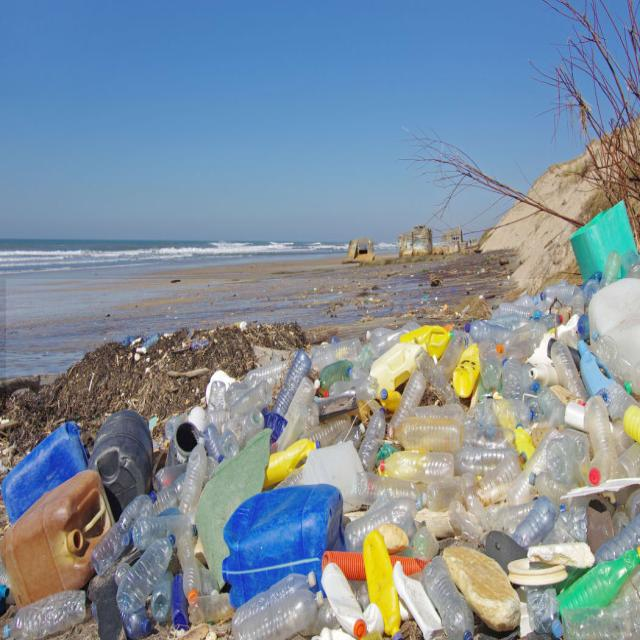dumping: (6, 279, 640, 640)
